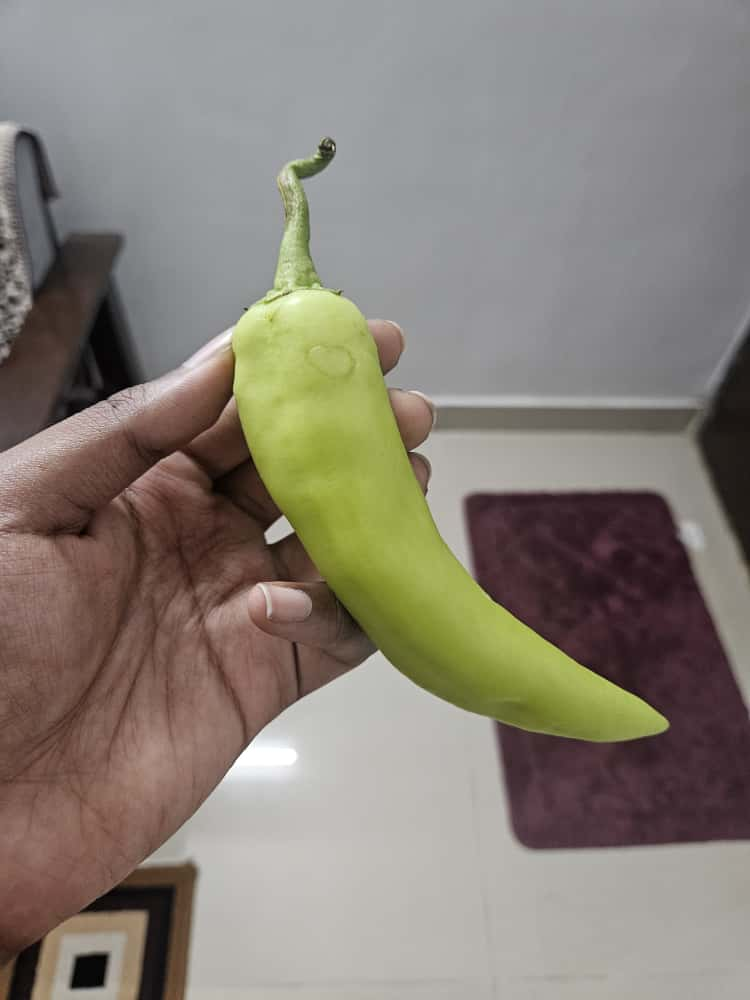wet: (152, 139, 687, 772)
